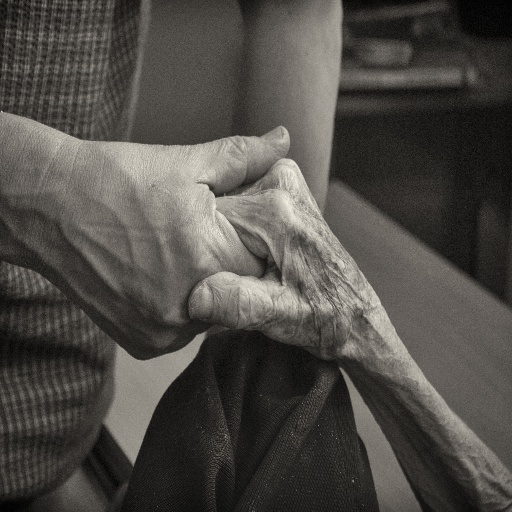hand: (57, 124, 289, 360), (186, 156, 385, 367)
